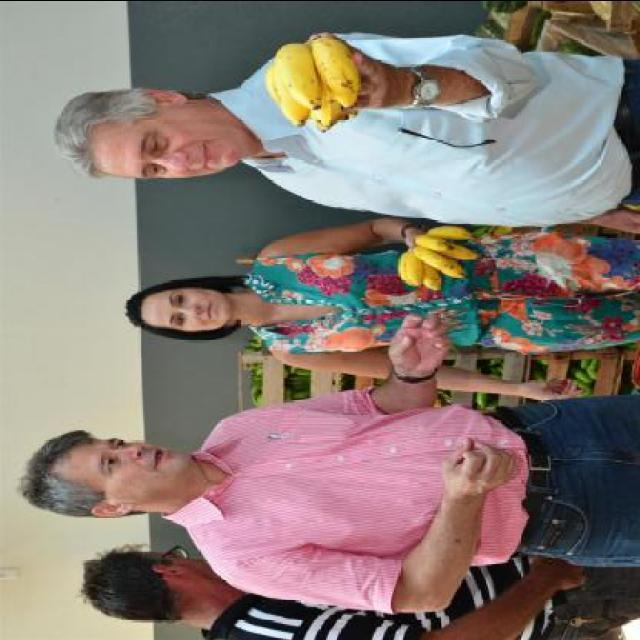Banana: (241, 332, 601, 408), (258, 33, 380, 129), (394, 227, 482, 290)
